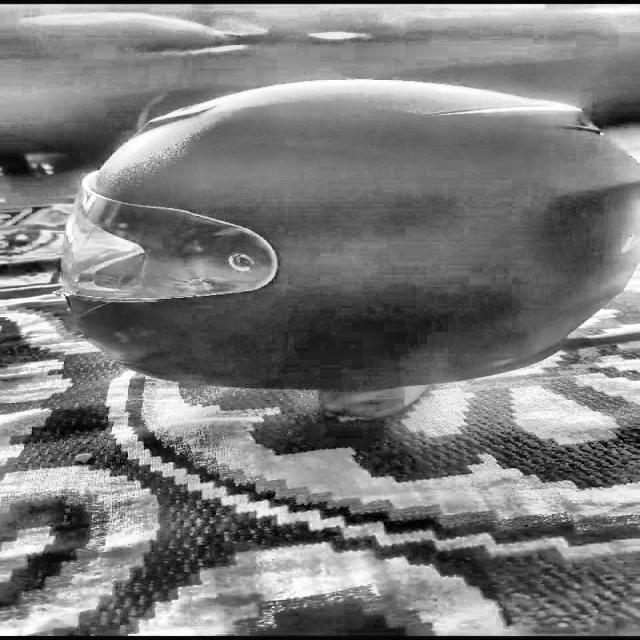Helmet: (53, 71, 640, 383)
